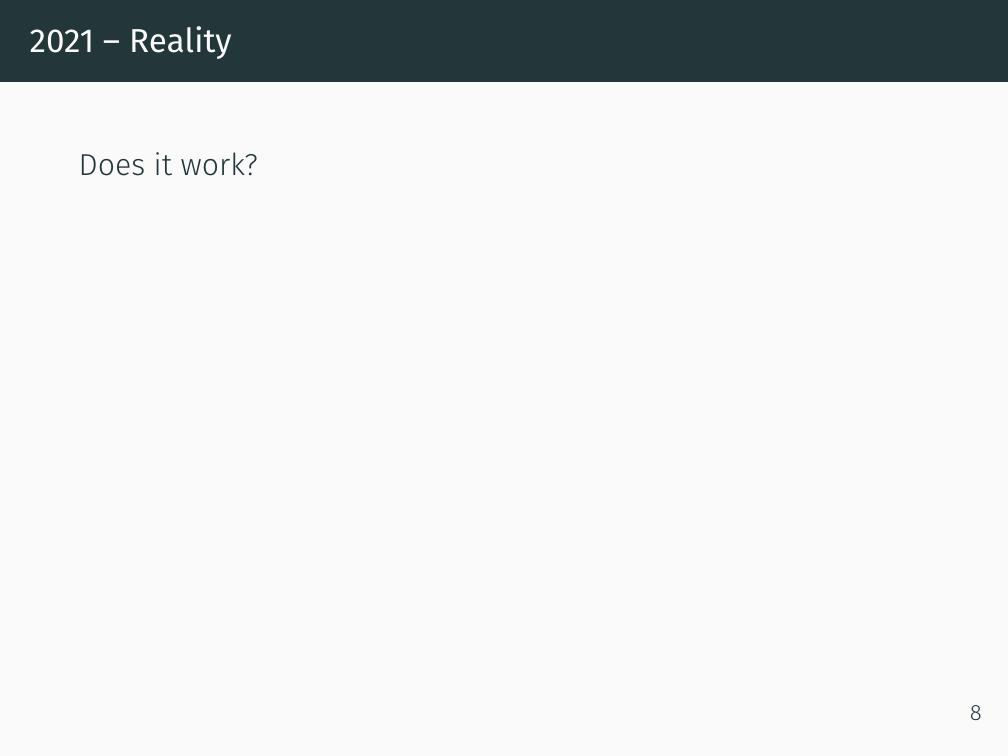Title: (21, 21, 236, 66)
